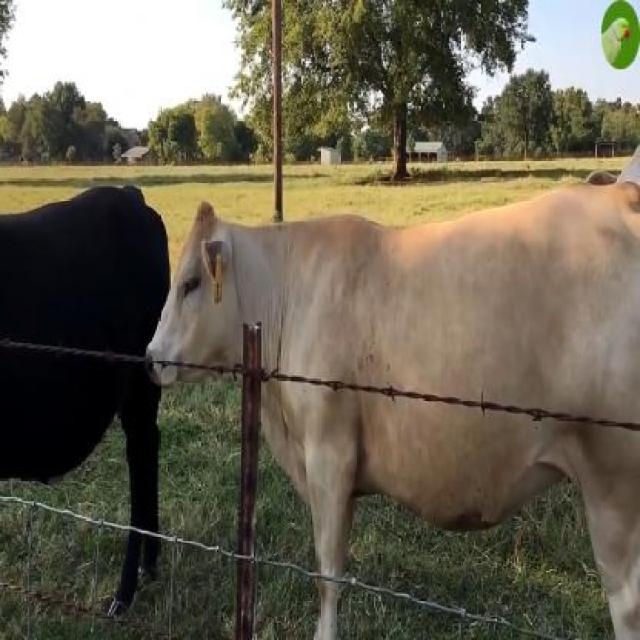Cow: (146, 200, 639, 638)
